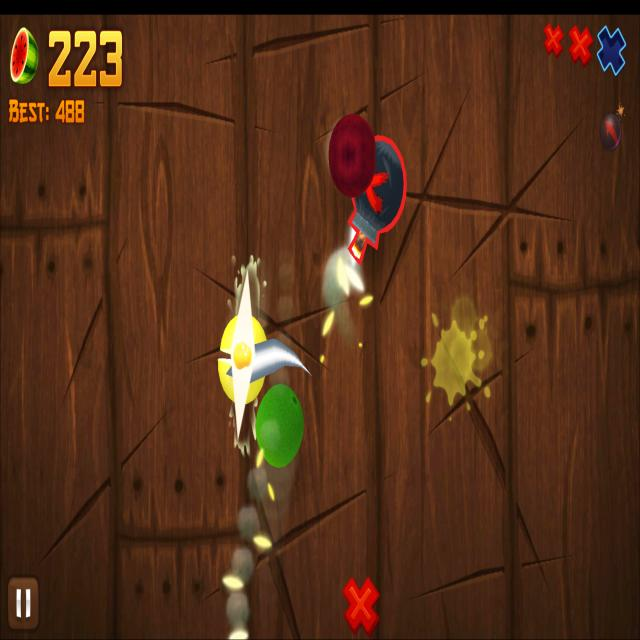bomb: (347, 135, 408, 266)
fruit: (256, 383, 305, 468), (328, 112, 376, 198)
